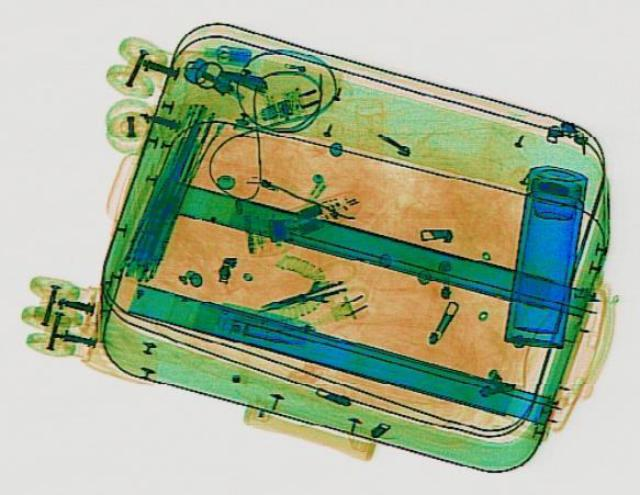Knife: (250, 271, 352, 320)
